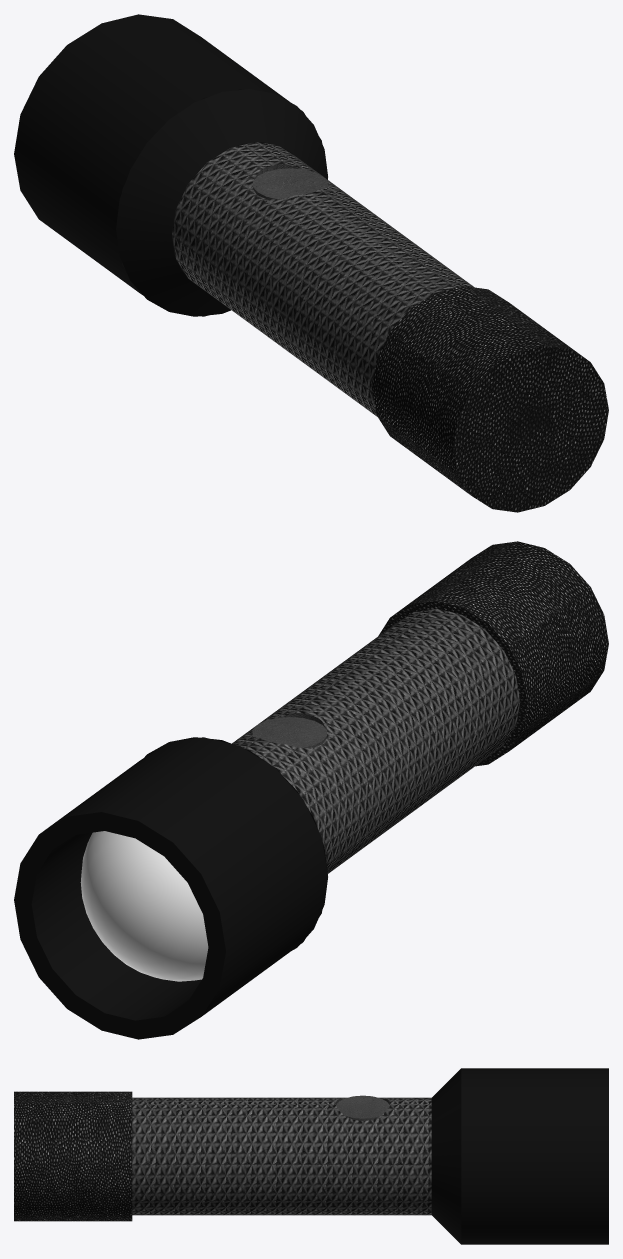
File: latarka2.fbx
3 renders of one model, top to bottom at view 1: azimuth 30°, elevation 25°; view 2: azimuth 150°, elevation 25°; view 3: azimuth 270°, elevation 25°, orthographic. The views are drawn at different scales.
Parts seen in each view (by area): view 1: Cylinder001, Cylinder004, Cylinder002, Cone001, Cylinder006; view 2: Cylinder002, Cylinder001, Cylinder004, Sphere001, Cylinder006; view 3: Cylinder001, Cylinder002, Cylinder004, Cone001, Cylinder006.
Boxes of the visible parts, x1,y1,x2,y2 form: Cylinder001: [172, 142, 474, 416]; Cylinder004: [371, 286, 608, 512]; Cylinder002: [14, 14, 322, 316]; Cone001: [116, 89, 327, 316]; Cylinder006: [253, 168, 327, 199]; Cylinder002: [14, 737, 327, 1039]; Cylinder001: [232, 608, 520, 873]; Cylinder004: [378, 541, 608, 766]; Sphere001: [80, 831, 208, 981]; Cylinder006: [252, 717, 326, 748]; Cylinder001: [132, 1097, 431, 1215]; Cylinder002: [461, 1068, 608, 1244]; Cylinder004: [14, 1091, 132, 1221]; Cone001: [431, 1068, 461, 1244]; Cylinder006: [336, 1095, 389, 1120].
Size of the model in its own units: 2.36 by 2.36 by 7.93.
Materials: 5 (3 with a texture image).
